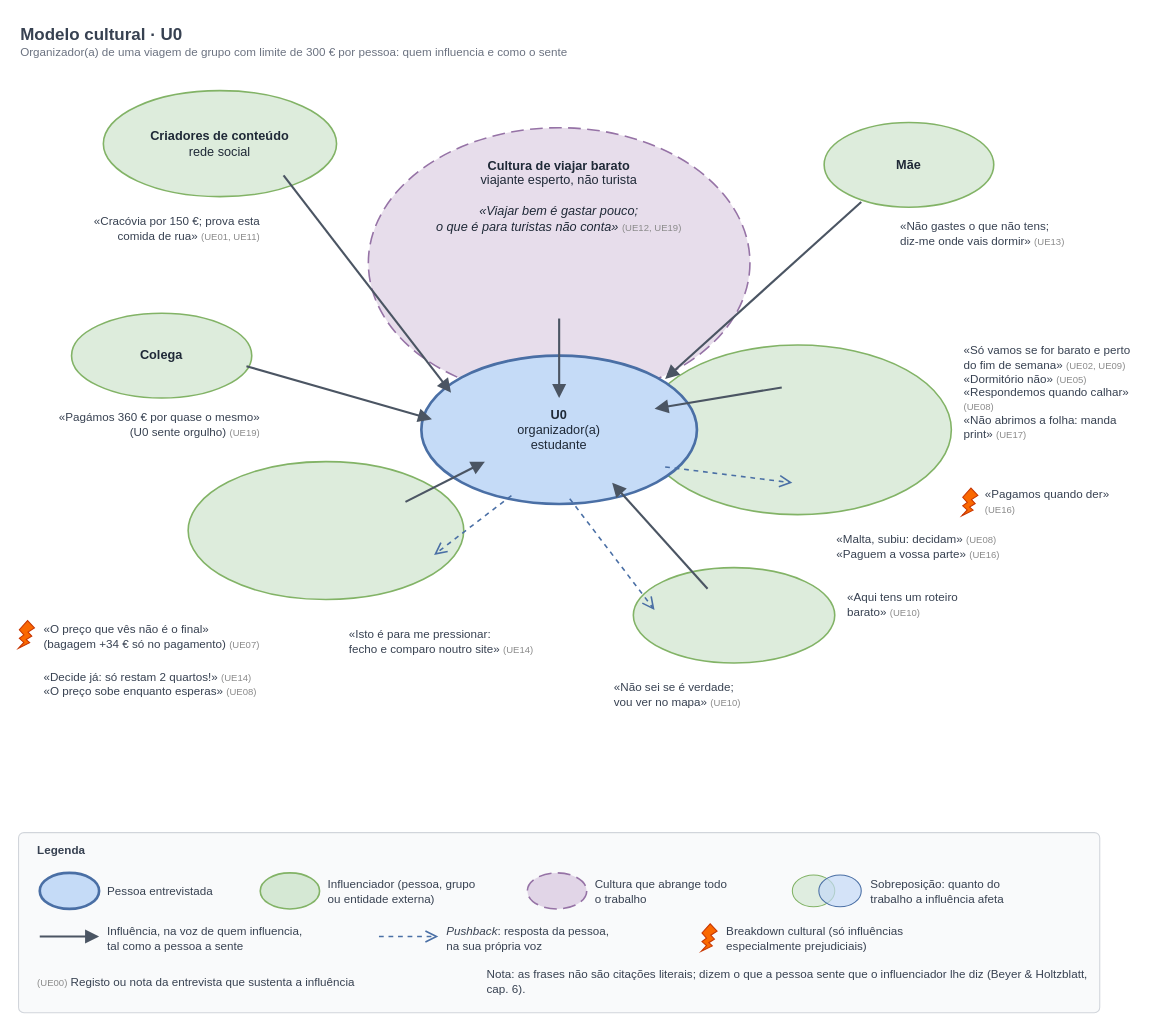
Image size: 1150x1031. Some labels were removed from this diagram. The centre of each missing label's shape, as x and y in pixels:
Amigos A e B o grupo: pixel 797 429
ChatGPT: pixel 733 614
Plataformas de reserva companhias e sites: pixel 325 530
